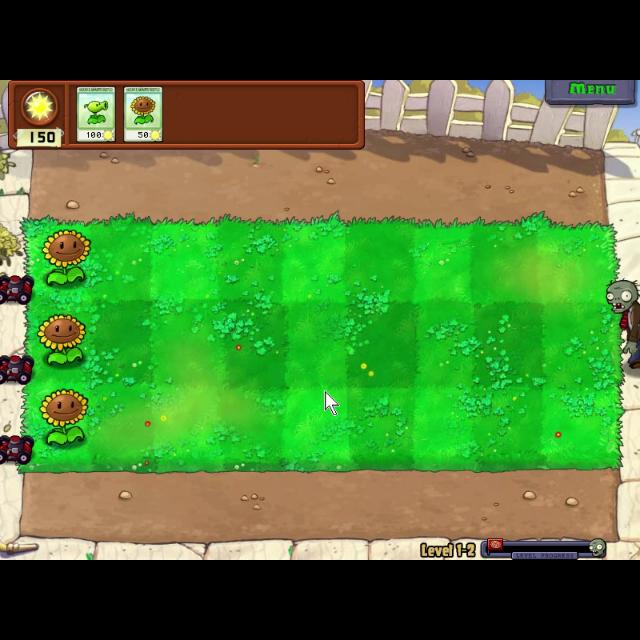Garden: (19, 214, 627, 476)
Menu Button: (544, 80, 638, 104)
Mower: (0, 349, 34, 389), (1, 270, 36, 306), (0, 432, 34, 464)
Peashooter: (76, 83, 116, 143)
Seed Panel: (5, 80, 371, 154)
Sunflower: (123, 84, 165, 144)
Sunflower Seed: (38, 223, 90, 293), (37, 386, 95, 448), (34, 310, 88, 368)
Zombie: (604, 279, 640, 375)
